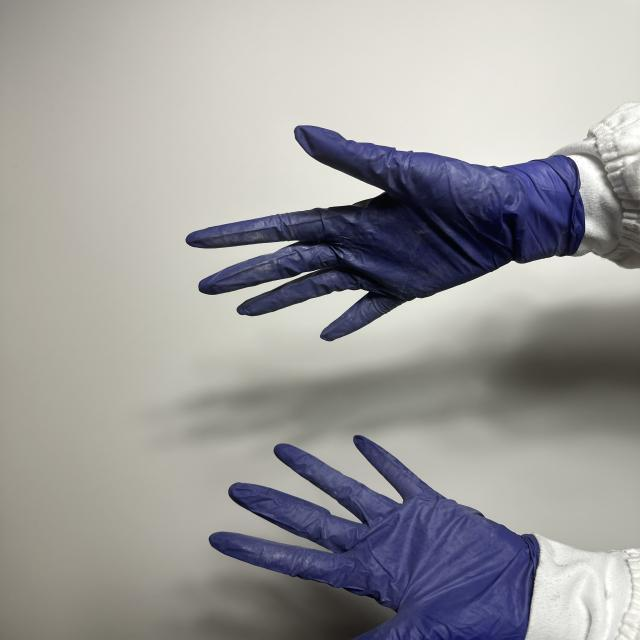gloves_contaminated: (186, 126, 584, 341), (210, 436, 540, 640)
